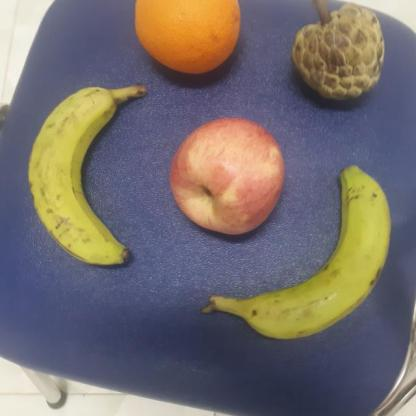annona: (288, 2, 385, 110)
apple: (167, 115, 286, 241)
banana: (201, 162, 394, 342), (23, 81, 147, 263)
orange: (123, 0, 247, 75)
